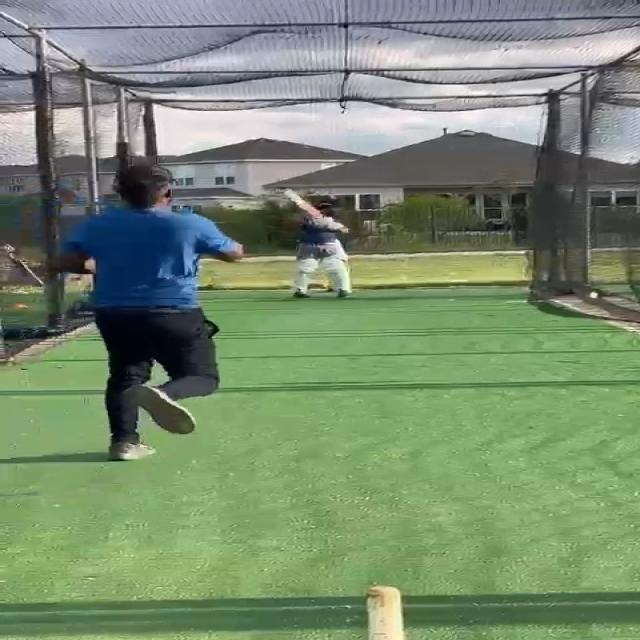batsman: (282, 188, 355, 301)
